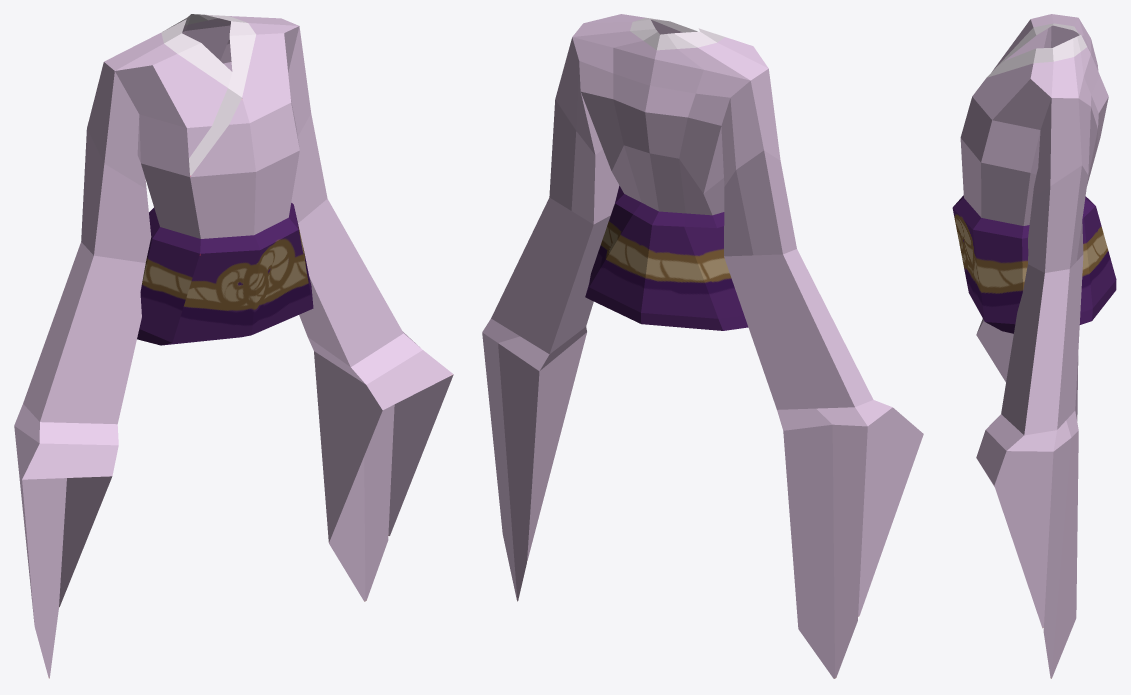
Rendered from kimono_top_purple.fbx.
3 renders of one model, left to right at view 1: azimuth 30°, elevation 25°; view 2: azimuth 150°, elevation 25°; view 3: azimuth 270°, elevation 25°, orthographic. The views are drawn at different scales.
Parts seen in each view (by area): view 1: KimonoTop; view 2: KimonoTop; view 3: KimonoTop.
Part boxes in pixels (box(x1,y1,x2,y2)): KimonoTop: box(14, 14, 453, 678); KimonoTop: box(482, 14, 923, 678); KimonoTop: box(952, 14, 1116, 678).
Size of the model in its own units: 174 by 238 by 61.49.
